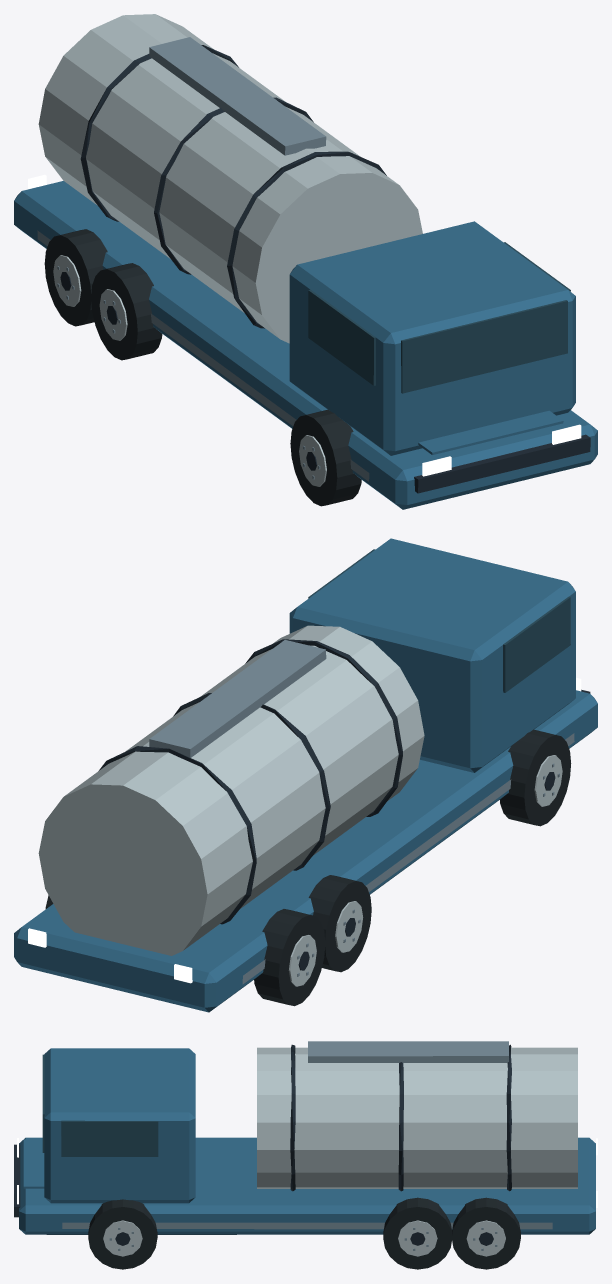
The model's file is road-tanker.lod1.glb.
3 renders of one model, top to bottom at view 1: azimuth 30°, elevation 25°; view 2: azimuth 150°, elevation 25°; view 3: azimuth 270°, elevation 25°, orthographic. The views are drawn at different scales.
Visible parts, largest first — view 1: road-tanker__body, road-tanker__wheel_steer_2_l, road-tanker__wheel_steer_0_l, road-tanker__wheel_steer_1_l; view 2: road-tanker__body, road-tanker__wheel_steer_1_l, road-tanker__wheel_steer_0_l, road-tanker__wheel_steer_2_l; view 3: road-tanker__body, road-tanker__wheel_steer_1_r, road-tanker__wheel_steer_2_r, road-tanker__wheel_steer_0_r.
Boxes of the visible parts, x1=… form: road-tanker__body: x1=14, y1=14, x2=597, y2=509; road-tanker__wheel_steer_2_l: x1=91, y1=263, x2=162, y2=360; road-tanker__wheel_steer_0_l: x1=290, y1=409, x2=361, y2=506; road-tanker__wheel_steer_1_l: x1=44, y1=229, x2=107, y2=326; road-tanker__body: x1=14, y1=538, x2=597, y2=1012; road-tanker__wheel_steer_1_l: x1=254, y1=909, x2=325, y2=1006; road-tanker__wheel_steer_0_l: x1=500, y1=729, x2=571, y2=826; road-tanker__wheel_steer_2_l: x1=308, y1=875, x2=371, y2=972; road-tanker__body: x1=14, y1=1041, x2=597, y2=1234; road-tanker__wheel_steer_1_r: x1=451, y1=1197, x2=520, y2=1269; road-tanker__wheel_steer_2_r: x1=383, y1=1197, x2=451, y2=1269; road-tanker__wheel_steer_0_r: x1=88, y1=1199, x2=157, y2=1269.
Bounding box in the file's own units: 2.85 × 2.73 × 8.1.
